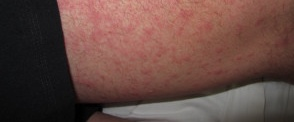SJS-TEN: (57, 0, 293, 101)
